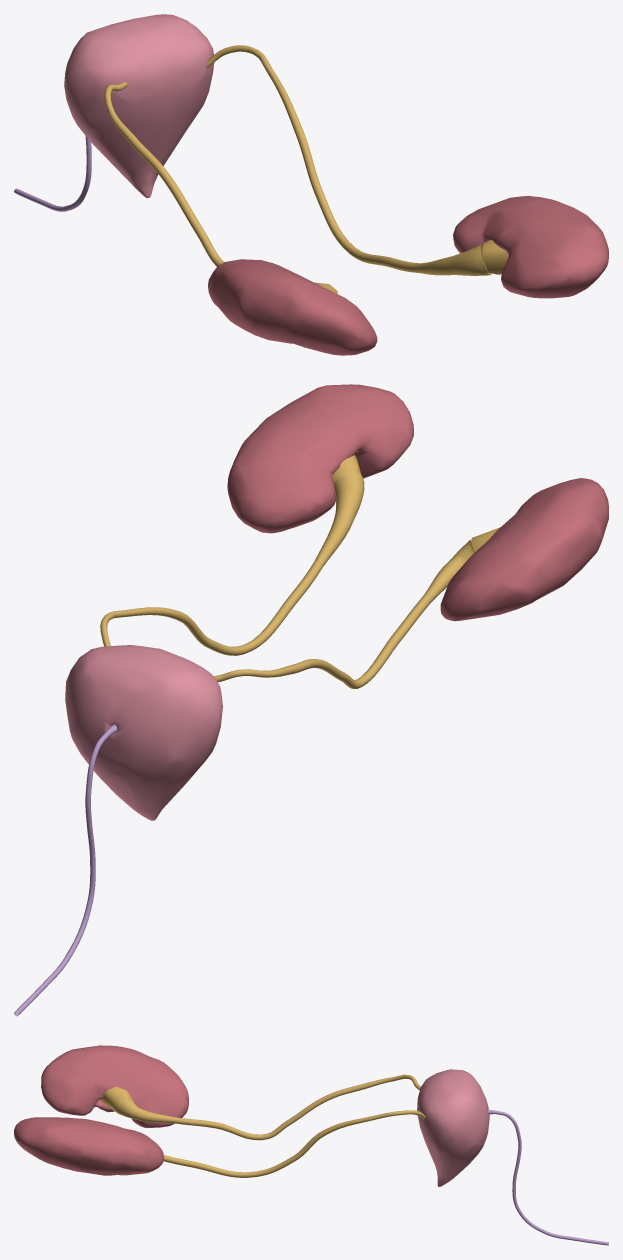
File: urinary.glb
The picture shows the model from 3 angles, top to bottom: view 1: azimuth 30°, elevation 25°; view 2: azimuth 150°, elevation 25°; view 3: azimuth 270°, elevation 25°; orthographic projection. The views are drawn at different scales.
Visible parts, largest first — view 1: 膀胱, 左侧肾, 右侧肾, 左侧输尿管, 右侧输尿管, 尿道, 左侧肾盂; view 2: 膀胱, 左侧肾, 右侧肾, 左侧输尿管, 右侧输尿管, 尿道; view 3: 右侧肾, 左侧肾, 膀胱, 右侧输尿管, 左侧输尿管, 尿道, 右侧肾盂.
Part boxes in pixels (x1,y1,x2,y2): 膀胱: (64, 14, 213, 198); 左侧肾: (453, 196, 608, 298); 右侧肾: (208, 259, 377, 355); 左侧输尿管: (206, 45, 491, 275); 右侧输尿管: (104, 82, 224, 266); 尿道: (14, 135, 91, 211); 左侧肾盂: (480, 240, 508, 274); 膀胱: (65, 645, 222, 820); 左侧肾: (227, 384, 413, 533); 右侧肾: (440, 478, 608, 621); 左侧输尿管: (100, 470, 364, 655); 右侧输尿管: (214, 540, 474, 688); 尿道: (14, 725, 117, 1016); 右侧肾: (41, 1045, 188, 1128); 左侧肾: (14, 1117, 163, 1175); 膀胱: (417, 1069, 489, 1186); 右侧输尿管: (117, 1074, 420, 1140); 左侧输尿管: (163, 1110, 425, 1177); 尿道: (488, 1109, 608, 1245); 右侧肾盂: (99, 1086, 131, 1113).
Size of the model in its own units: 0.2624 by 0.1902 by 0.6192.
